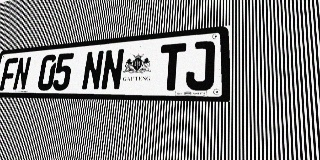0: (36, 54, 58, 91)
5: (52, 53, 74, 91)
F: (0, 58, 18, 91)
J: (185, 40, 215, 91)
N: (100, 48, 125, 91), (81, 50, 105, 91), (12, 56, 32, 91)
T: (158, 43, 186, 91)
